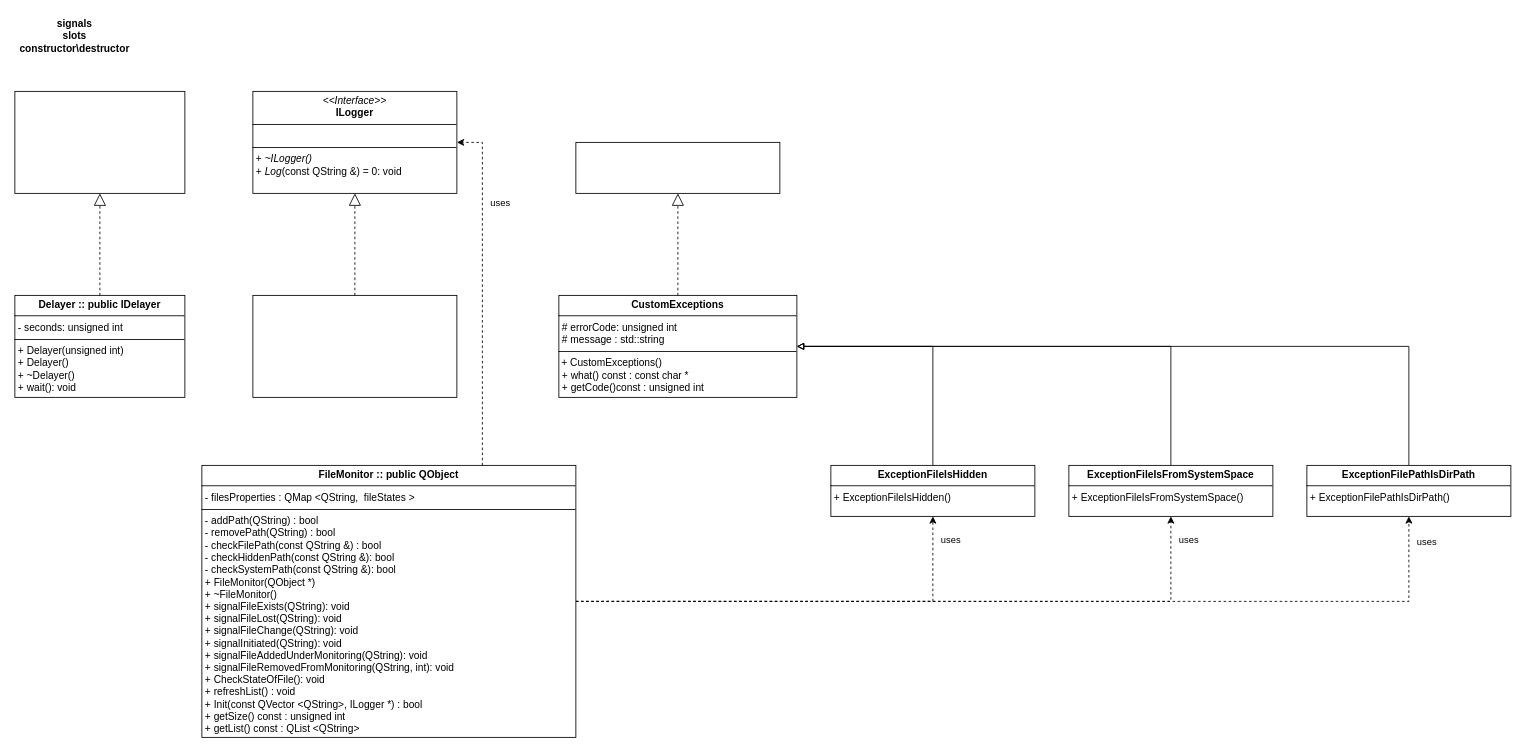
This 1526x752 diagram has some shape labels left out. The centre of each missing label's shape, as x and y in pixels:
<<interface std::exception + what() : const char*: [677,167]
<<Interface>> IDelayer + ~IDelayer () + wait() : void: [99,142]
ConsoleLogger + Logger () + ~Logger () + Log(const QString &): void: [354,346]
